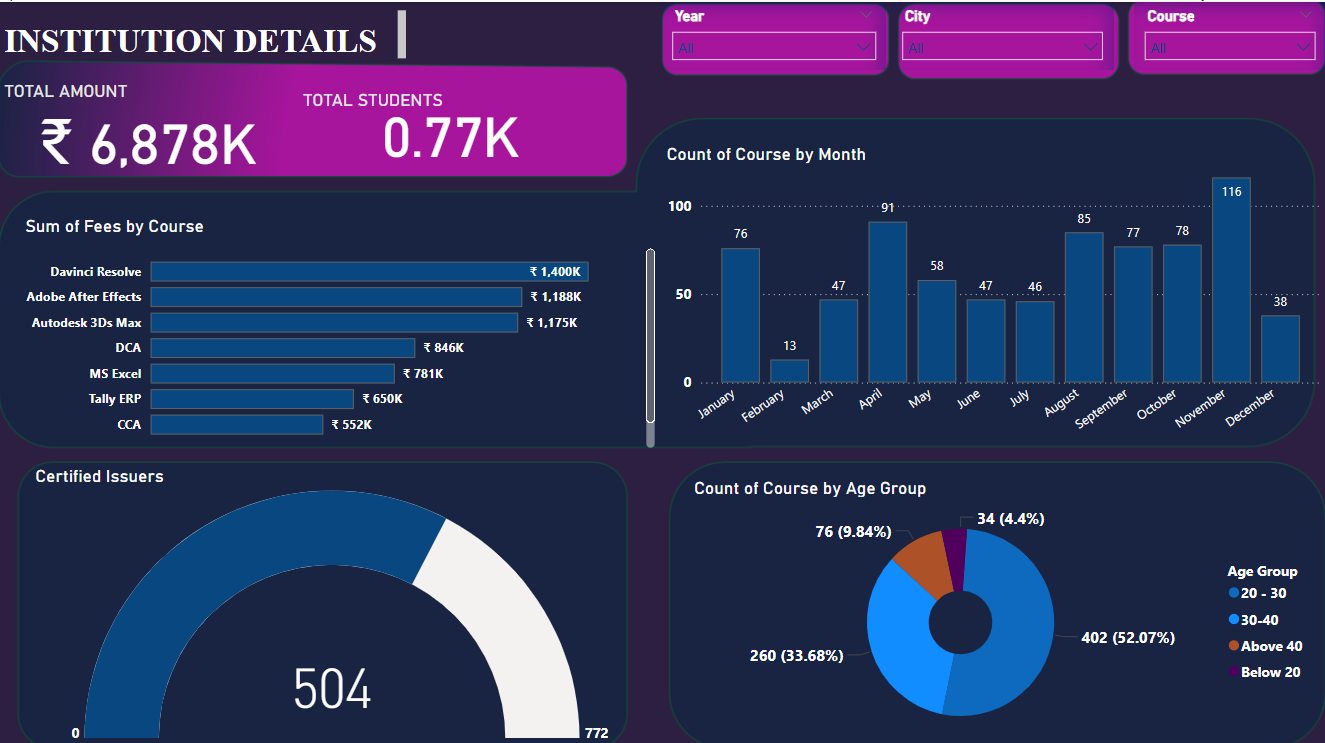

The page's visual inventory and layout, read from the dashboard file:
{"tool":"powerbi","page":{"name":"Institution","canvas":[1280,720],"ordinal":0},"visuals":[{"type":"clusteredColumnChart","fields":{"Category":["Student Course Details.Date of Joining.Variation.Date Hierarchy.Year","Student Course Details.Date of Joining.Variation.Date Hierarchy.Quarter","Student Course Details.Date of Joining.Variation.Date Hierarchy.Month","Student Course Details.Date of Joining.Variation.Date Hierarchy.Day"],"Y":["CountNonNull(Student Course Details.Course)"]},"box":[639.5,135.8,640.8,299.1],"z":0},{"type":"donutChart","fields":{"Y":["CountNonNull(Student Course Details.Course)"],"Category":["Student Course Details.Age Group"]},"box":[665.5,458.3,614.8,262.1],"z":1000},{"type":"clusteredBarChart","fields":{"Category":["Student Course Details.Course"],"Y":["Sum(Student Course Details.Fees)"]},"box":[20.6,205.8,617.5,229.2],"z":2000},{"type":"card","title":"TOTAL AMOUNT","fields":{"Values":["Sum(Student Course Details.Fees)"]},"box":[0,75.5,288.2,89.2],"z":3000},{"type":"gauge","title":"Certified Issuers","fields":{"Y":["Student Course Details.countyes"]},"box":[30.2,447.3,598.3,273.1],"z":4000},{"type":"slicer","fields":{"Values":["Student Course Details.Date of Joining.Variation.Date Hierarchy.Year"]},"box":[639.5,0,216.8,65.9],"z":5000},{"type":"slicer","fields":{"Values":["student personal details.City"]},"box":[861.8,0,214.1,65.9],"z":6000},{"type":"slicer","fields":{"Values":["Student Course Details.Course"]},"box":[1095,0,185.2,65.9],"z":7000},{"type":"textbox","box":[0,0,397.9,60.4],"z":8000},{"type":"card","title":"TOTAL STUDENTS","fields":{"Values":["CountNonNull(Student Course Details.Name)"]},"box":[288.3,84.5,295.6,80.8],"z":9000}]}

Visuals, with their boxes in screenshot pixels (x1, y1, x2, y2), scaled from the page's 1280x720 canvas onto the 1325x743 screenshot:
clusteredColumnChart - Student Course Details.Date of Joining.Variation.Date Hierarchy.Year x Student Course Details.Date of Joining.Variation.Date Hierarchy.Quarter: box=[662, 140, 1324, 449]
donutChart - CountNonNull(Student Course Details.Course) x Student Course Details.Age Group: box=[689, 473, 1324, 742]
clusteredBarChart - Student Course Details.Course x Sum(Student Course Details.Fees): box=[21, 212, 661, 449]
"TOTAL AMOUNT" card: box=[0, 78, 298, 170]
"Certified Issuers" gauge: box=[31, 462, 651, 742]
slicer - Student Course Details.Date of Joining.Variation.Date Hierarchy.Year: box=[662, 0, 886, 68]
slicer - student personal details.City: box=[892, 0, 1114, 68]
slicer - Student Course Details.Course: box=[1133, 0, 1324, 68]
textbox: box=[0, 0, 412, 62]
"TOTAL STUDENTS" card: box=[298, 87, 604, 171]
